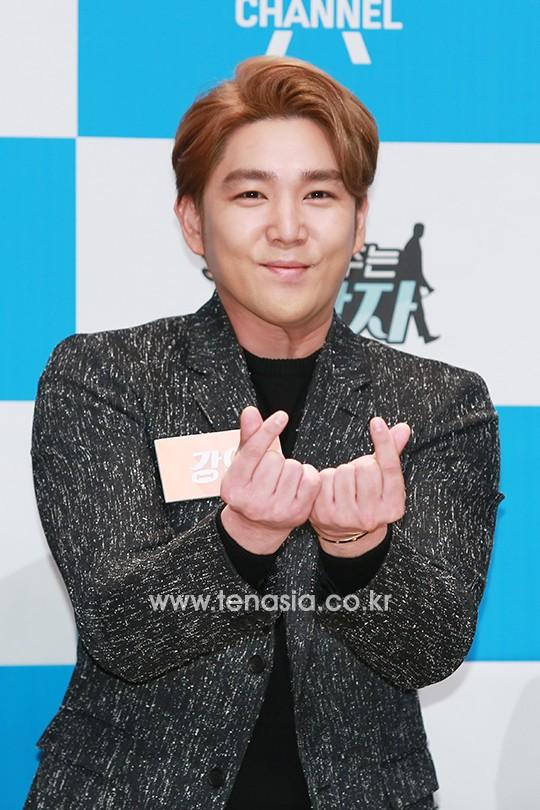heart gesture: (236, 403, 290, 449), (366, 413, 413, 462)
